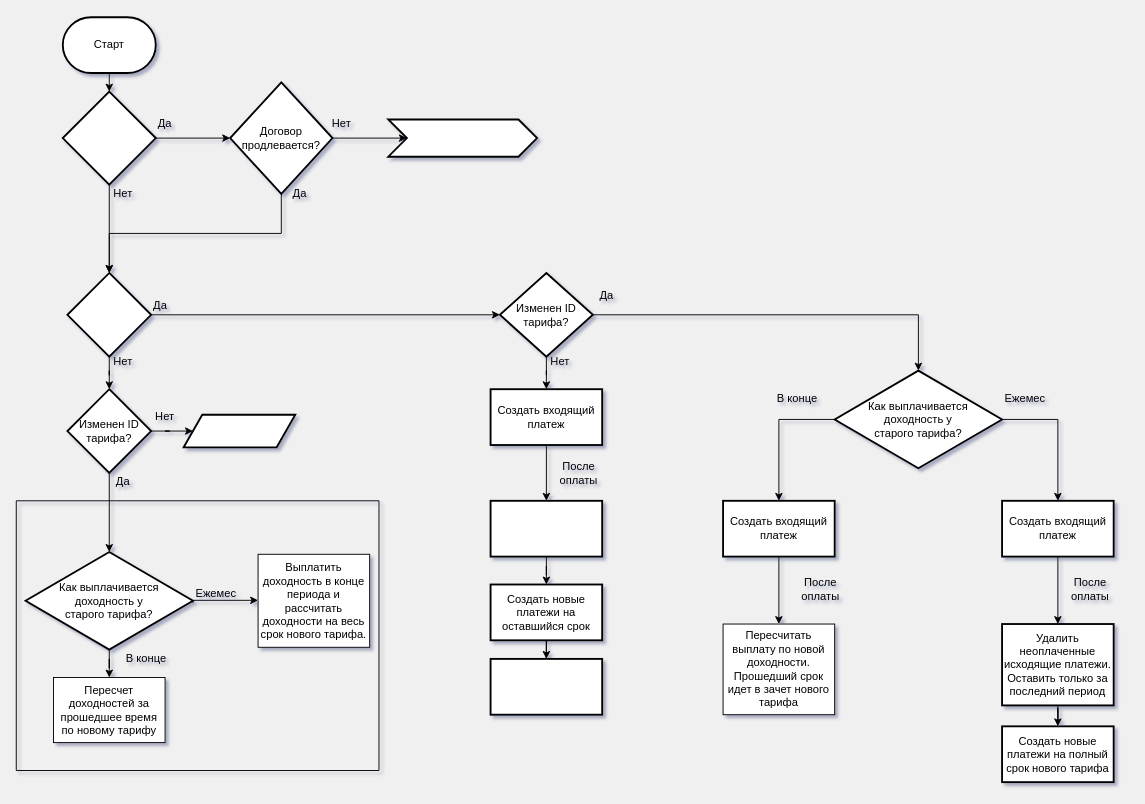
Image size: 1145x804. Some labels were removed from this diagram. Here are the shapes that lost their labels. From the top down, the centre of each, then its label:
(x=108, y=137): Последний период договора?
(x=462, y=137): Ошибка. Изменение не имеет смысла
(x=109, y=314): Изменена сумма?
(x=239, y=430): Изменений нет
(x=546, y=528): Удалить неоплаченные исходящие платежи
(x=197, y=635): Применяется сразу. Необратимое действие
(x=546, y=686): Поставить статус ожидает конца переиода
